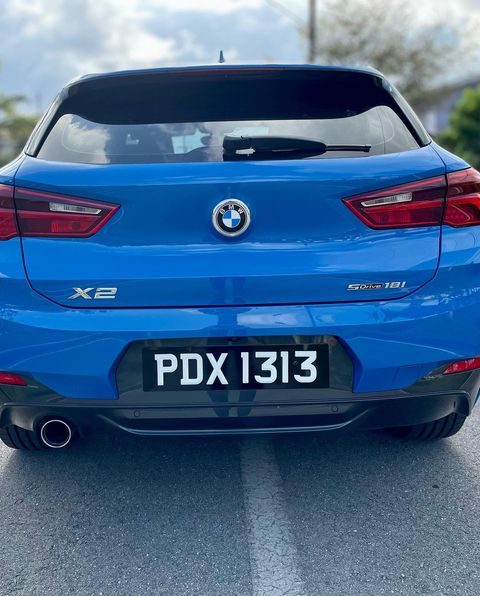License-Plate: (143, 349, 328, 391)
